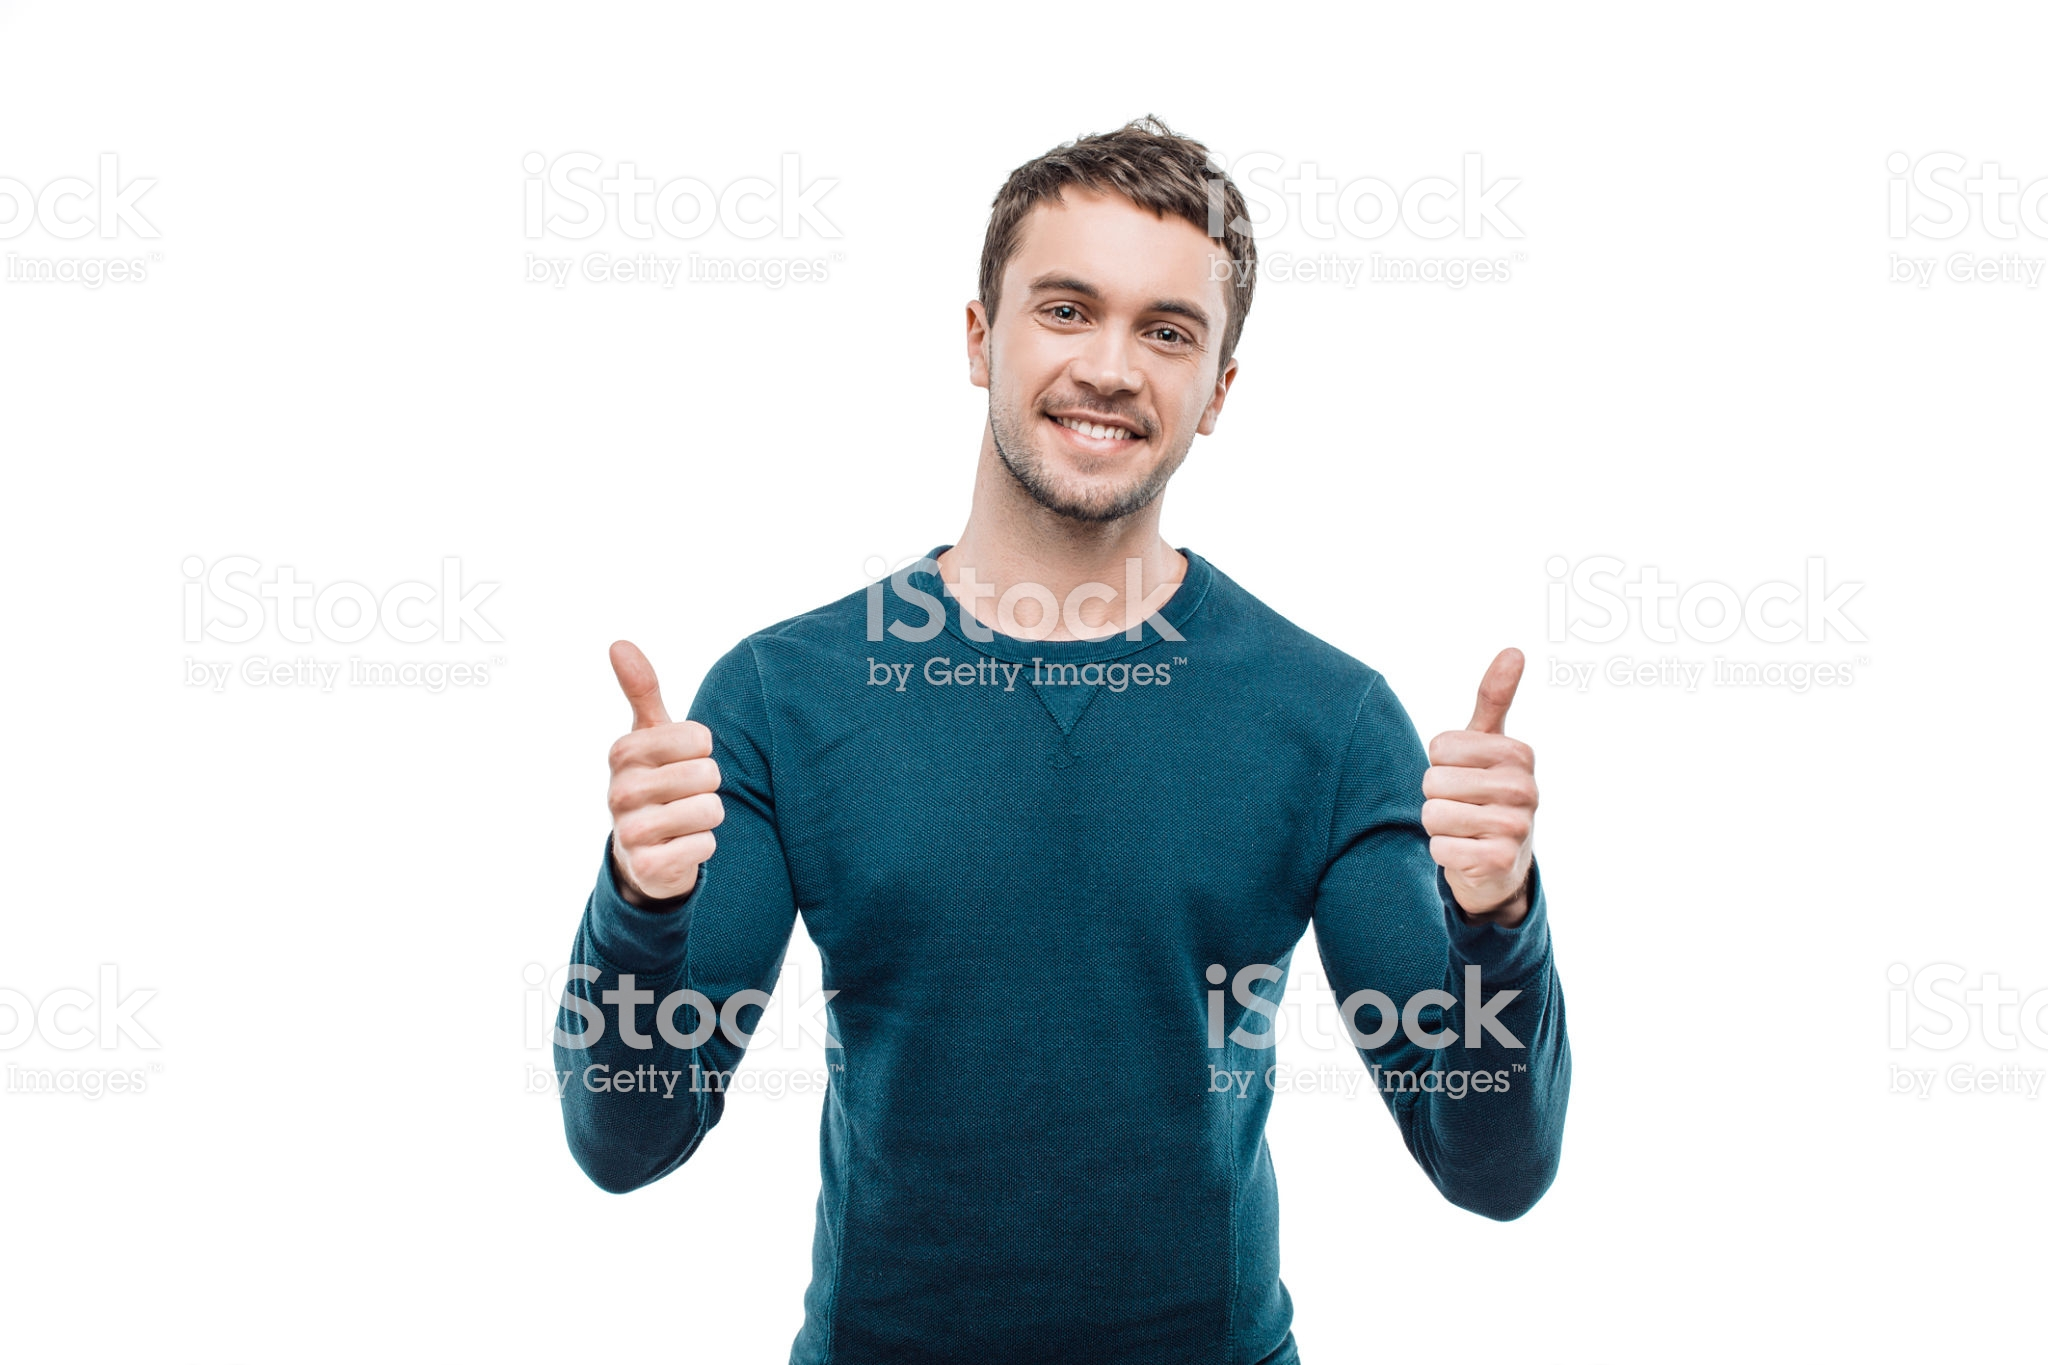thumbsup: (601, 635, 729, 894), (1416, 644, 1541, 900)
